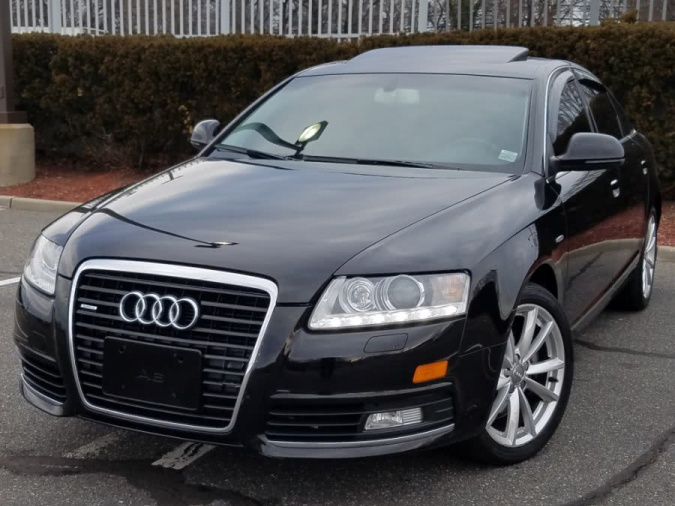audi: (115, 284, 205, 337)
